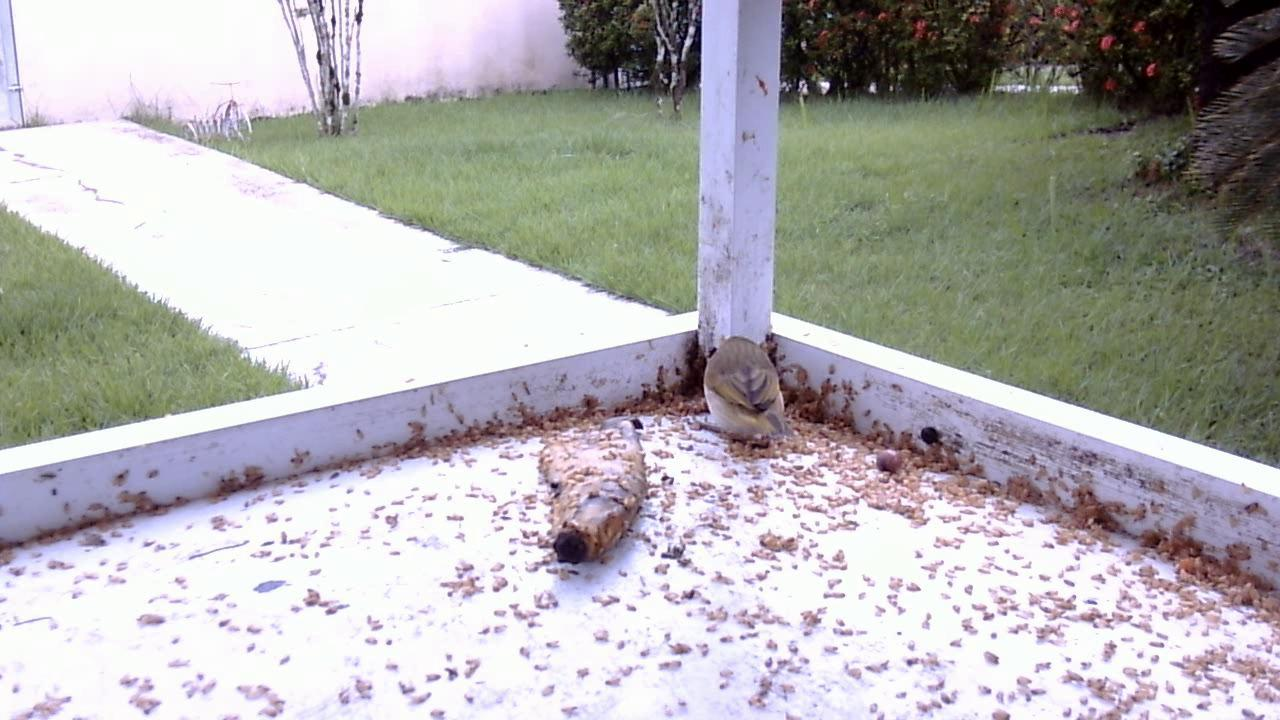canario_do_amazonas: (695, 334, 791, 452)
